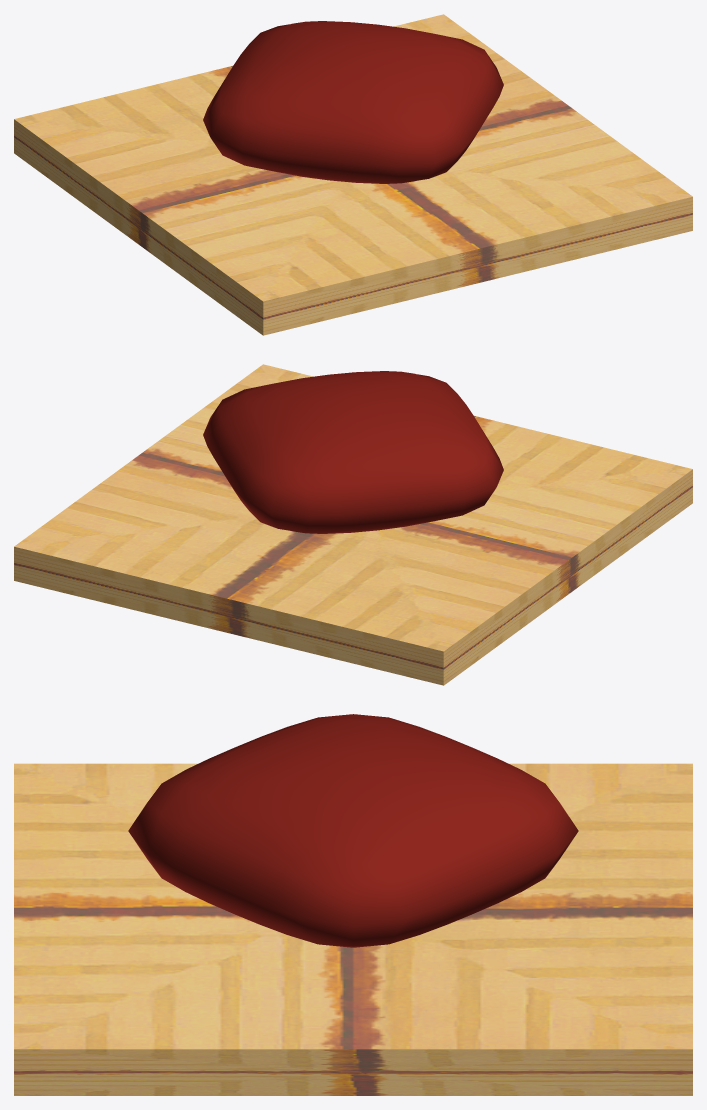
The model's file is p2_piece_tile.fbx.
The picture shows the model from 3 angles, top to bottom: view 1: azimuth 30°, elevation 25°; view 2: azimuth 150°, elevation 25°; view 3: azimuth 270°, elevation 25°; orthographic projection. The views are drawn at different scales.
Visible parts, largest first — view 1: p2_pieces_tile_geo; view 2: p2_pieces_tile_geo; view 3: p2_pieces_tile_geo.
Part boxes in pixels (x1=…): p2_pieces_tile_geo: x1=14, y1=14, x2=692, y2=335; p2_pieces_tile_geo: x1=14, y1=364, x2=692, y2=685; p2_pieces_tile_geo: x1=14, y1=714, x2=692, y2=1095.
Size of the model in its own units: 40.59 by 13.08 by 40.76.
2 materials, 1 textured.
